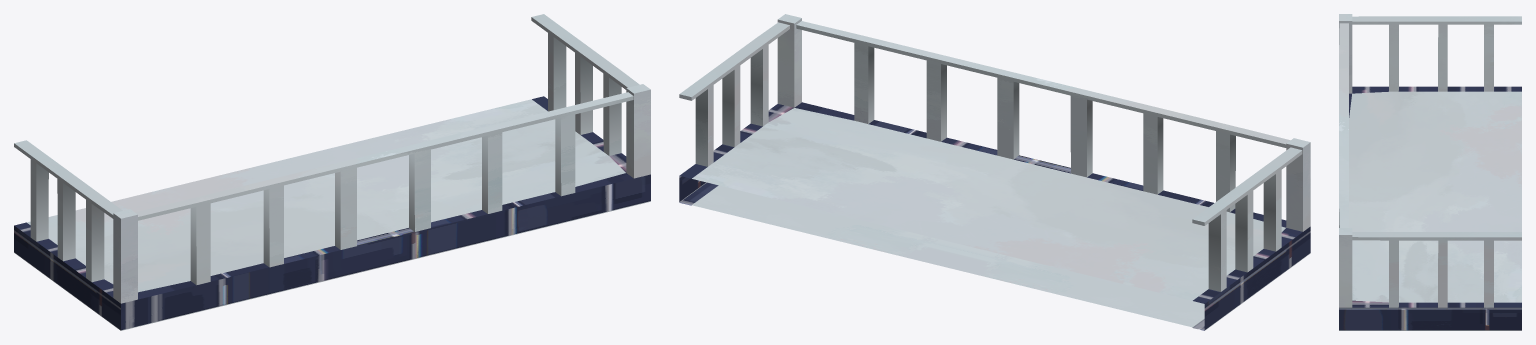
Rendered from Balcony4.fbx.
3 views of the same model, side by side, from view 1: azimuth 30°, elevation 25°; view 2: azimuth 150°, elevation 25°; view 3: azimuth 270°, elevation 25° (orthographic). The views are drawn at different scales.
Visible parts, largest first — view 1: BalconyStyle1; view 2: BalconyStyle1; view 3: BalconyStyle1.
Part boxes in pixels (x1,y1,x2,y2): BalconyStyle1: (14,14,650,330); BalconyStyle1: (679,14,1310,330); BalconyStyle1: (1339,14,1521,330).
Size of the model in its own units: 981 by 199 by 343.
Materials: 3 (3 with a texture image).
